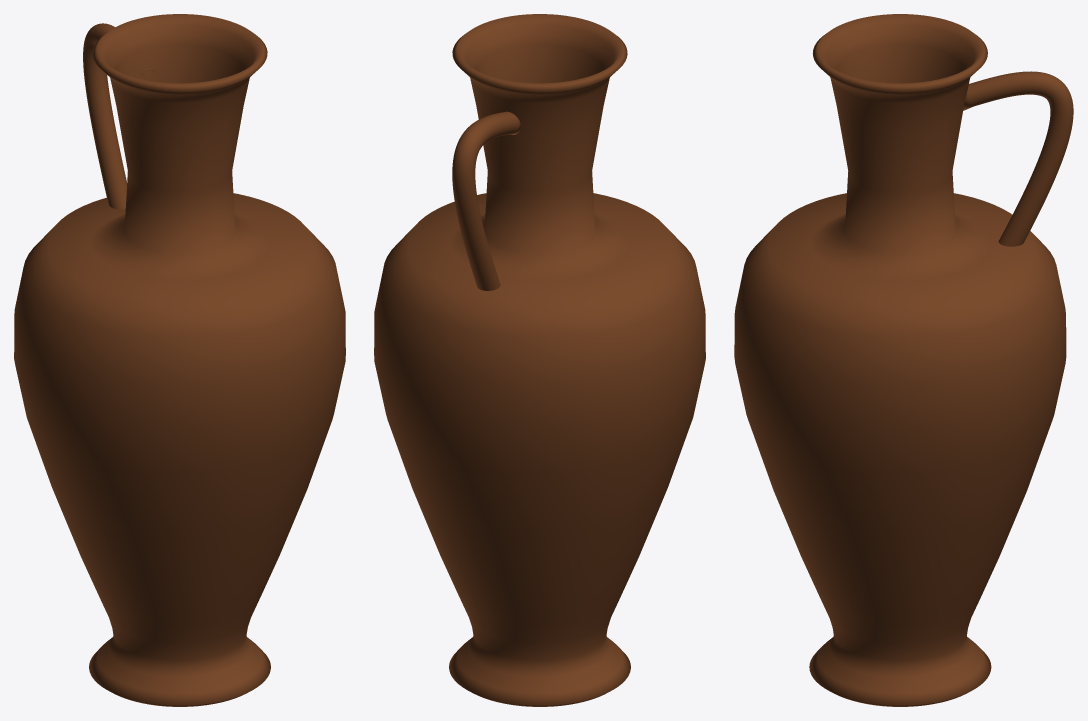
Rendered from BigVase1Handle.fbx.
3 renders of one model, left to right at view 1: azimuth 30°, elevation 25°; view 2: azimuth 150°, elevation 25°; view 3: azimuth 270°, elevation 25°, orthographic.
Parts seen in each view (by area): view 1: Sphere, BezierCurve; view 2: Sphere, BezierCurve; view 3: Sphere, BezierCurve.
Part boxes in pixels (x1,y1,x2,y2): Sphere: (14,14,345,706); BezierCurve: (83,23,157,209); Sphere: (374,14,705,706); BezierCurve: (452,111,520,290); Sphere: (734,14,1066,706); BezierCurve: (963,71,1073,246).
Size of the model in its own units: 178 by 369 by 182.
